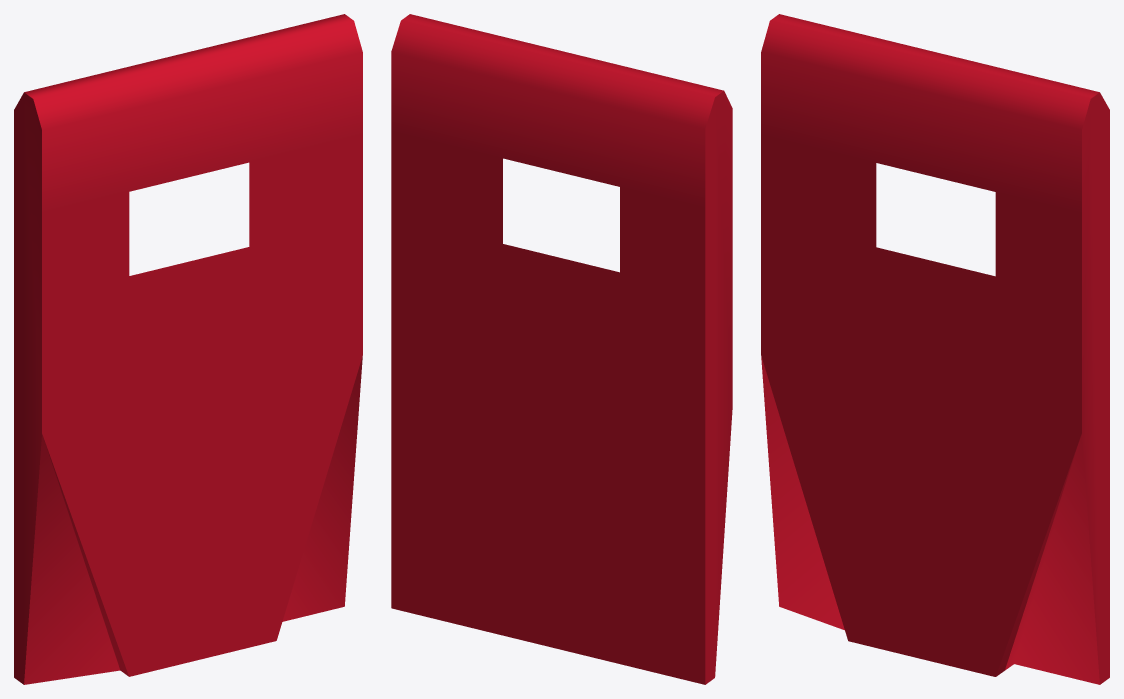
Rendered from door.fbx.
3 views of the same model, side by side, from view 1: azimuth 30°, elevation 25°; view 2: azimuth 150°, elevation 25°; view 3: azimuth 330°, elevation 25° (orthographic). The views are drawn at different scales.
Parts seen in each view (by area): view 1: door; view 2: door; view 3: door.
Part boxes in pixels (x1,y1,x2,y2): door: [14, 14, 362, 684]; door: [391, 14, 732, 684]; door: [761, 14, 1109, 684].
Bounding box in the file's own units: 105 × 185 × 15.79.
